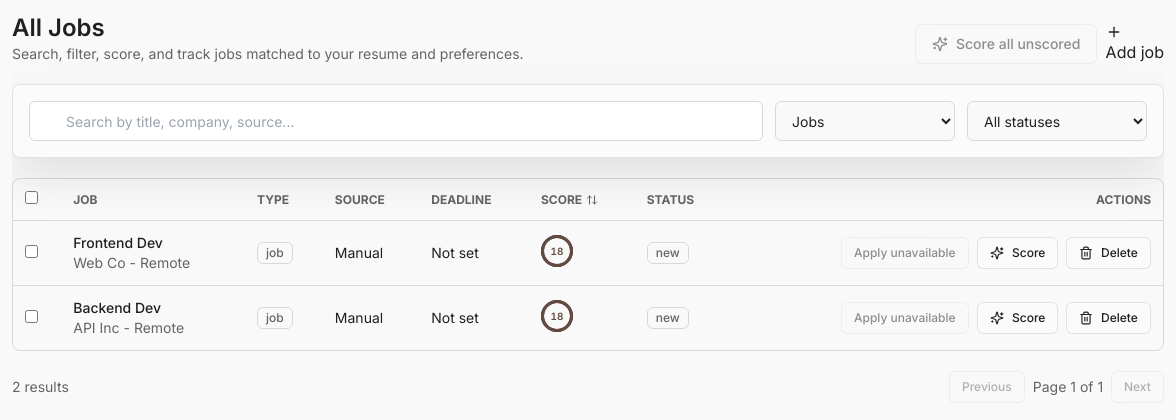
Scenario: OpportunityListView › filters jobs by search query
The image size is (1176, 420).
Type "Frontend" into the field with placeholder "Search by title, company, source..." at [396, 121], box [29, 101, 763, 141]
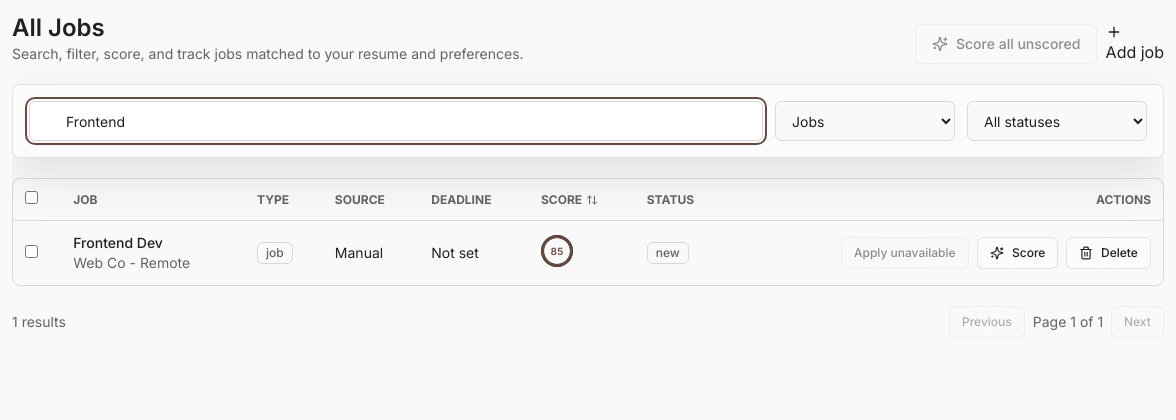
Expected: the link "Frontend Dev" is shown, [73, 234, 163, 251]
Now the link "Backend Dev" is gone
